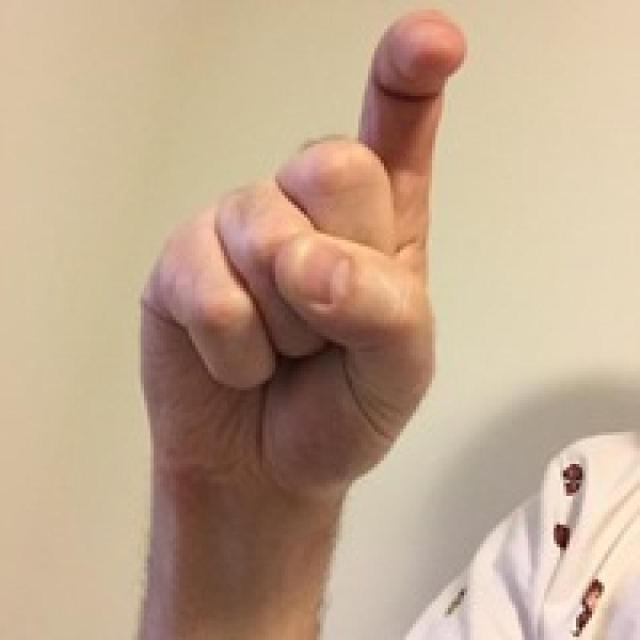X: (95, 0, 504, 485)
